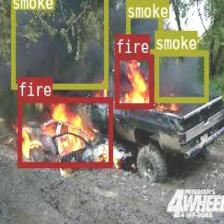fire: (17, 96, 111, 166), (115, 54, 152, 108)
smoke: (10, 0, 107, 88), (154, 50, 208, 102), (126, 0, 161, 54)
